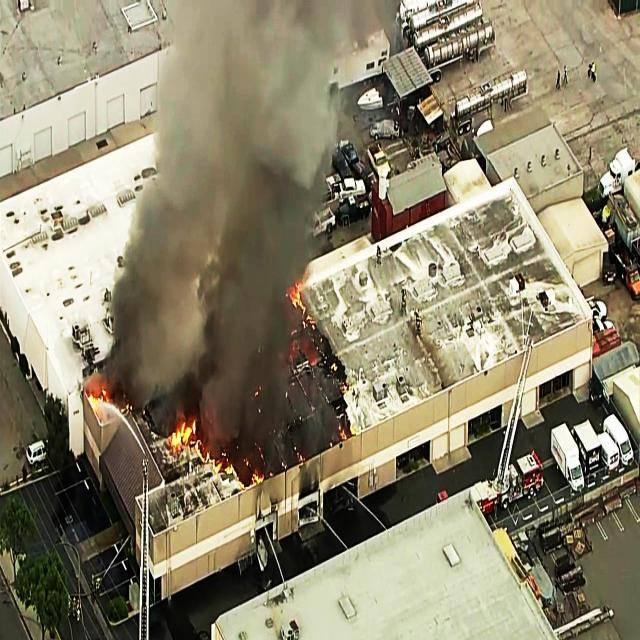Smoke: (152, 0, 306, 335)
